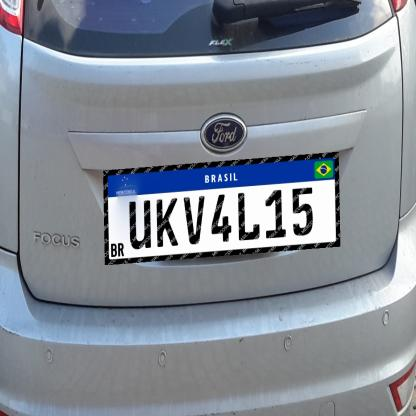PlacaM: (103, 152, 340, 265)
